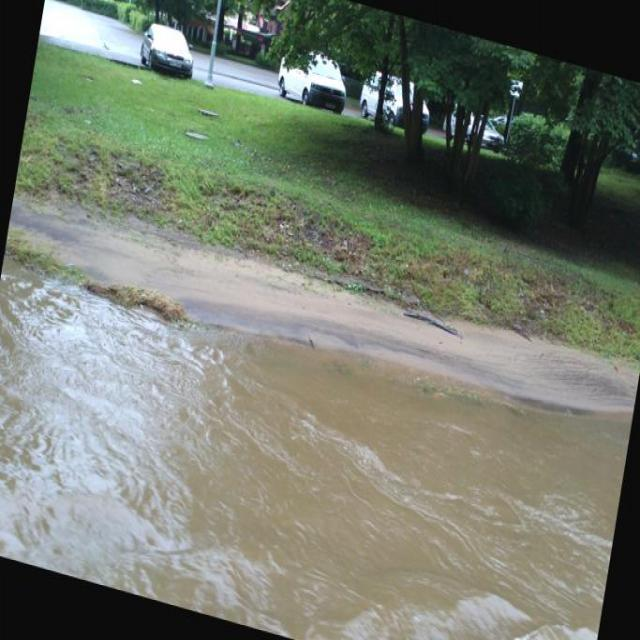flood: (0, 251, 631, 639)
